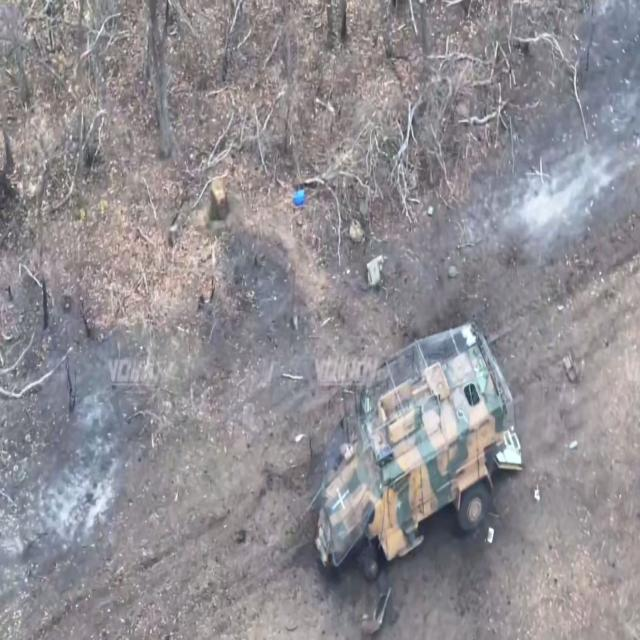vehicle: (299, 303, 531, 588)
